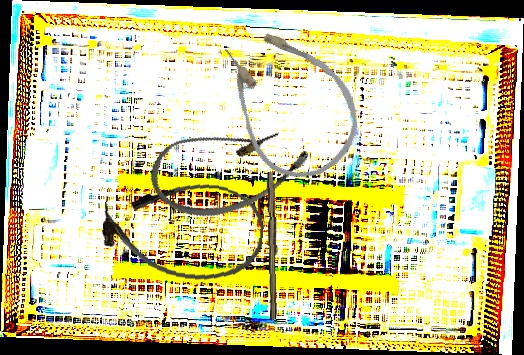Cannula: (199, 3, 380, 198), (140, 97, 319, 236), (98, 172, 268, 287)
Scalpel Handle: (264, 171, 282, 320)
